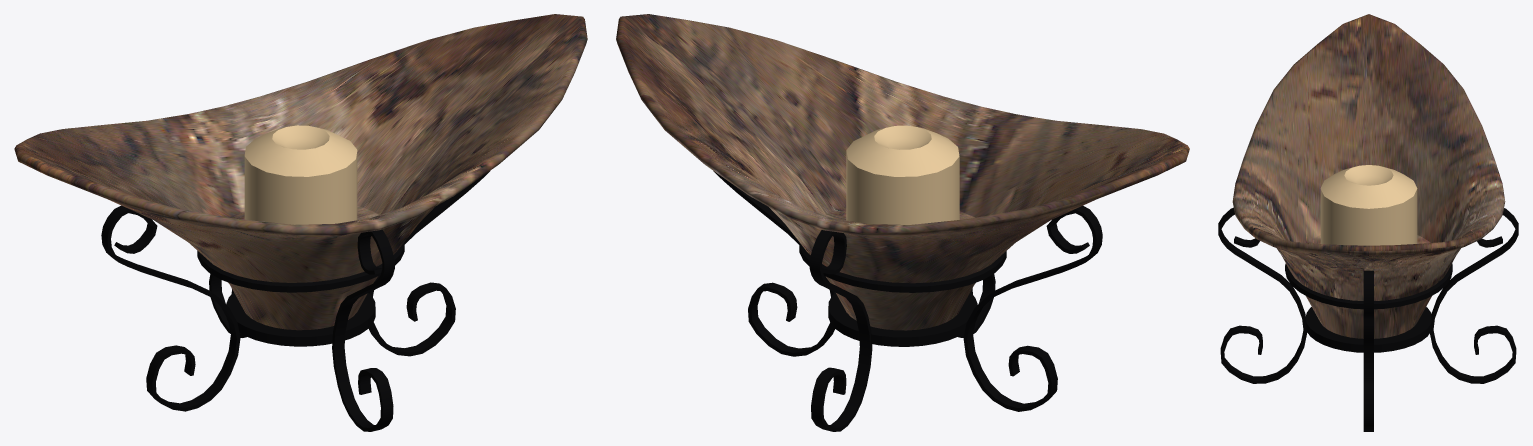
File: Candle_Table.FBX
3 renders of one model, left to right at view 1: azimuth 30°, elevation 25°; view 2: azimuth 150°, elevation 25°; view 3: azimuth 270°, elevation 25°, orthographic. The views are drawn at different scales.
Parts seen in each view (by area): view 1: Candle_table; view 2: Candle_table; view 3: Candle_table.
Part boxes in pixels (x1=…): Candle_table: x1=14, y1=14, x2=587, y2=431; Candle_table: x1=616, y1=14, x2=1189, y2=431; Candle_table: x1=1218, y1=14, x2=1518, y2=431.
Size of the model in its own units: 0.5284 by 0.2629 by 0.2848.
Materials: 3 (1 with a texture image).
